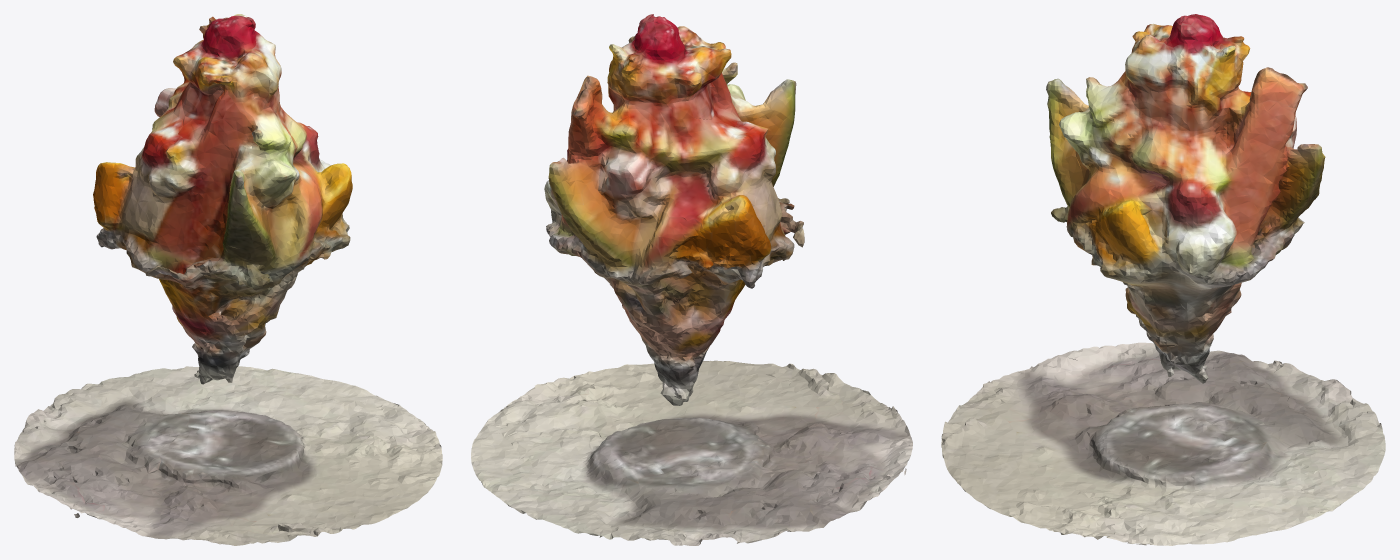
Rendered from 🍦 Party revelry Sundae 派對狂歡聖代.glb.
3 renders of one model, left to right at view 1: azimuth 30°, elevation 25°; view 2: azimuth 150°, elevation 25°; view 3: azimuth 270°, elevation 25°, orthographic. The views are drawn at different scales.
Size of the model in its own units: 0.2329 by 0.2583 by 0.2329.
Materials: 1 (1 with a texture image).
